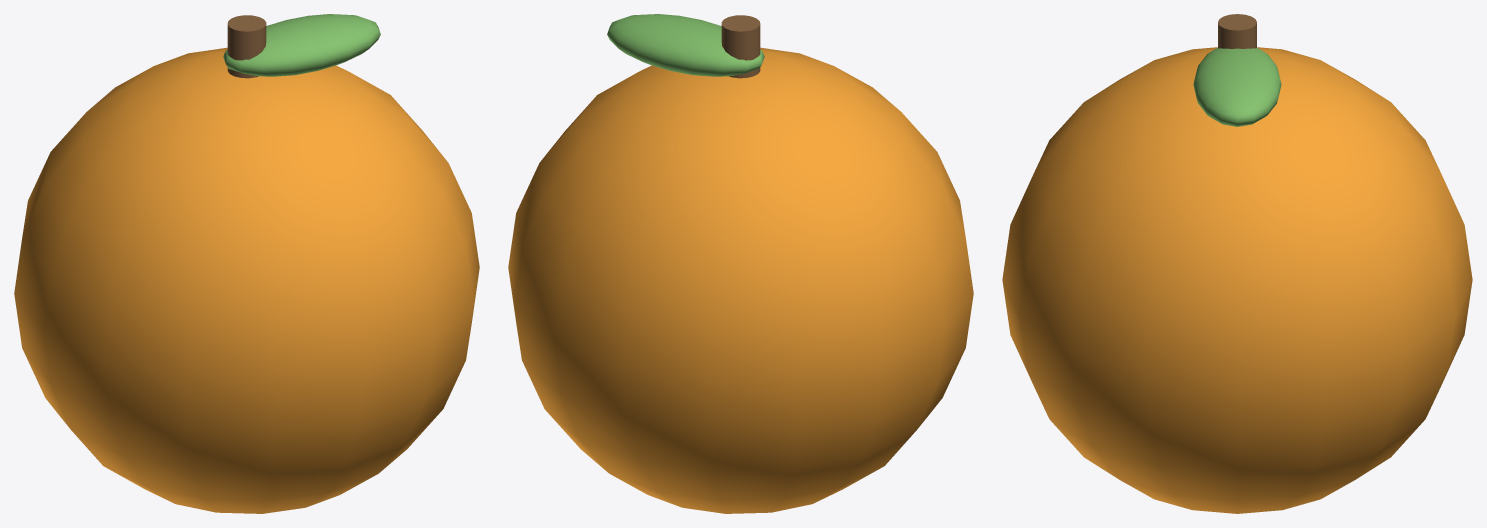
The model's file is orange.glb.
3 renders of one model, left to right at view 1: azimuth 30°, elevation 25°; view 2: azimuth 150°, elevation 25°; view 3: azimuth 270°, elevation 25°, orthographic.
Parts seen in each view (by area): view 1: orange; view 2: orange; view 3: orange.
Boxes of the visible parts, x1,y1,x2,y2 form: orange: (14, 14, 479, 513); orange: (508, 14, 973, 513); orange: (1002, 14, 1472, 513).
Bounding box in the file's own units: 0.96 × 1.06 × 0.96.
